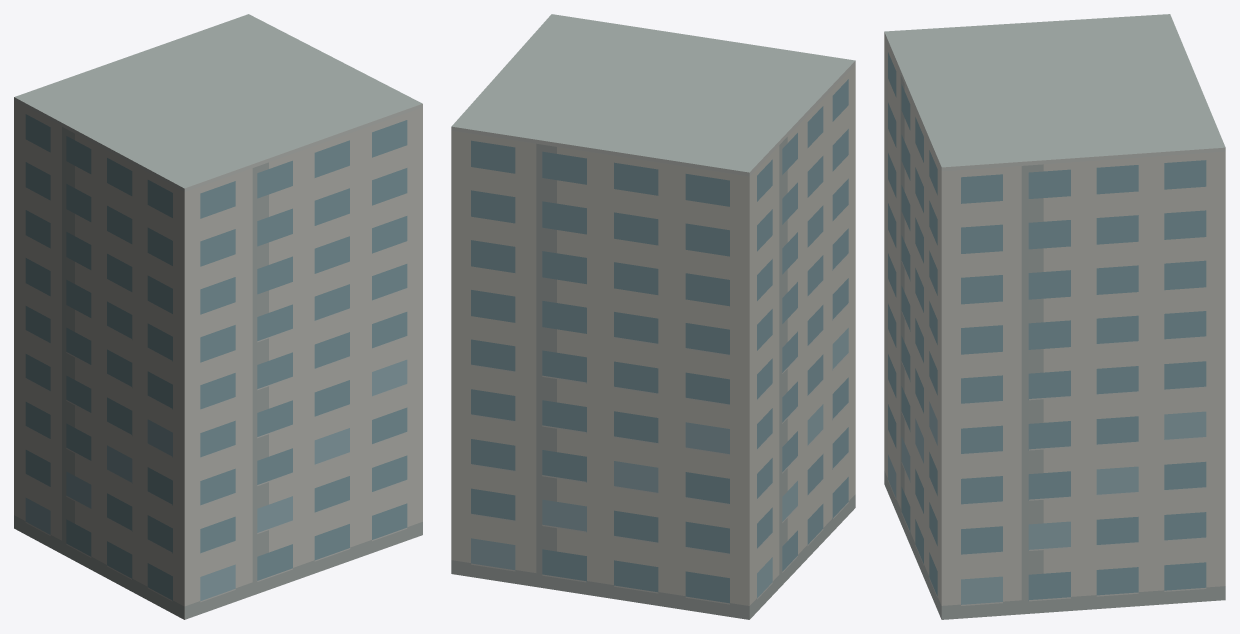
Rendered from survey-upis-32697856.glb.
3 renders of one model, left to right at view 1: azimuth 30°, elevation 25°; view 2: azimuth 150°, elevation 25°; view 3: azimuth 270°, elevation 25°, orthographic. The views are drawn at different scales.
Parts seen in each view (by area): view 1: survey-upis-32697856.tmp; view 2: survey-upis-32697856.tmp; view 3: survey-upis-32697856.tmp.
Part boxes in pixels (x1=…): survey-upis-32697856.tmp: x1=14, y1=14, x2=422, y2=619; survey-upis-32697856.tmp: x1=451, y1=14, x2=855, y2=619; survey-upis-32697856.tmp: x1=884, y1=14, x2=1225, y2=619.
Bounding box in the file's own units: 19.65 × 27 × 18.48.
